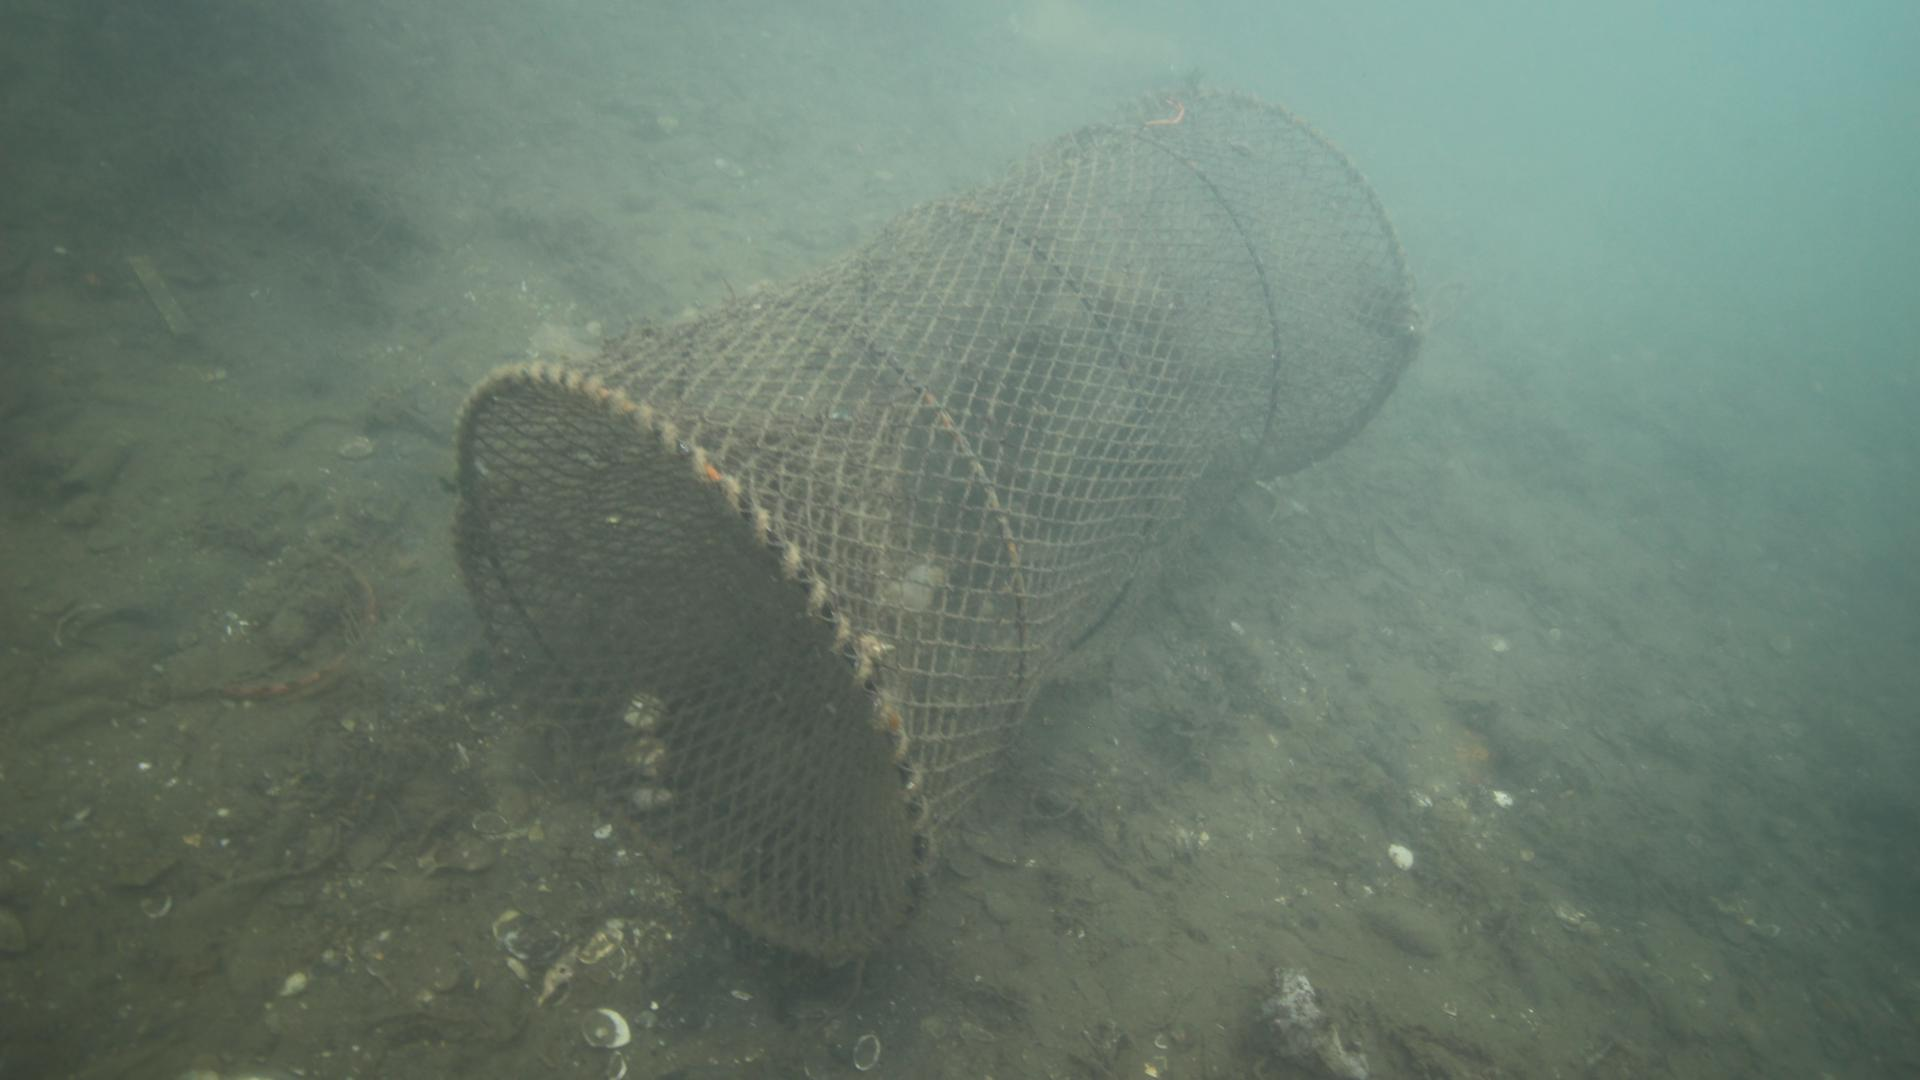spring fish trap: (458, 87, 1418, 975)
